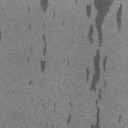red iron: (74, 0, 122, 128), (25, 0, 66, 71), (42, 102, 74, 128), (62, 56, 71, 66), (28, 80, 32, 86), (118, 114, 121, 122)
